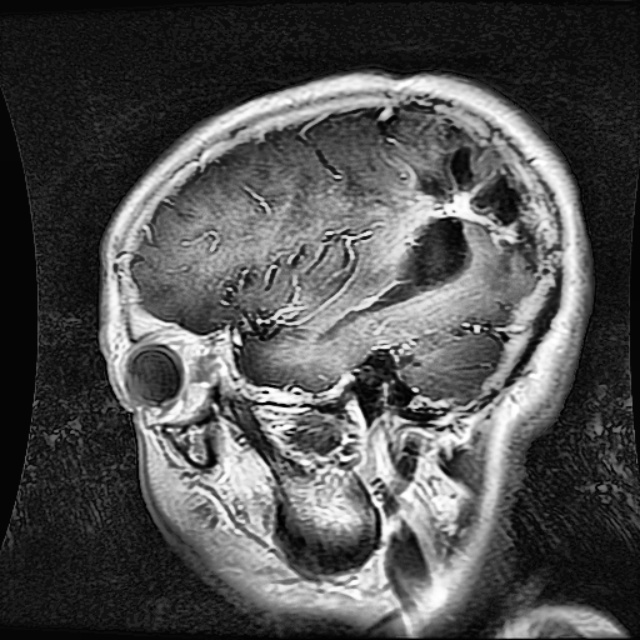Meningioma: (319, 142, 535, 339)
